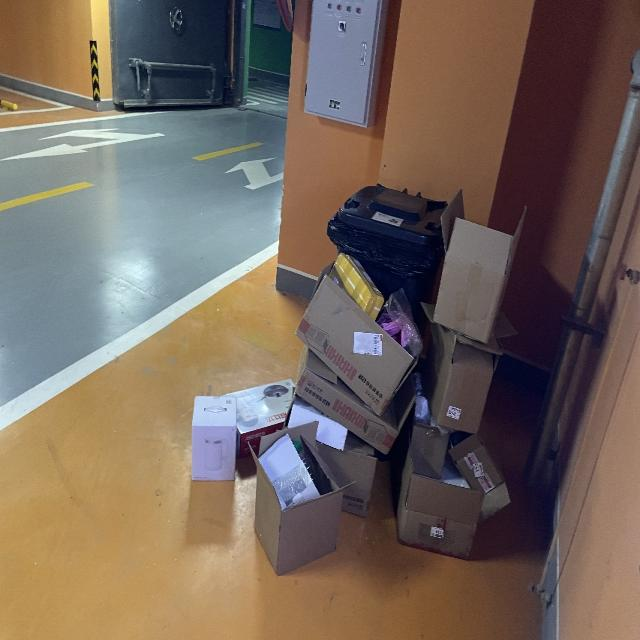garbage: (191, 182, 526, 577)
